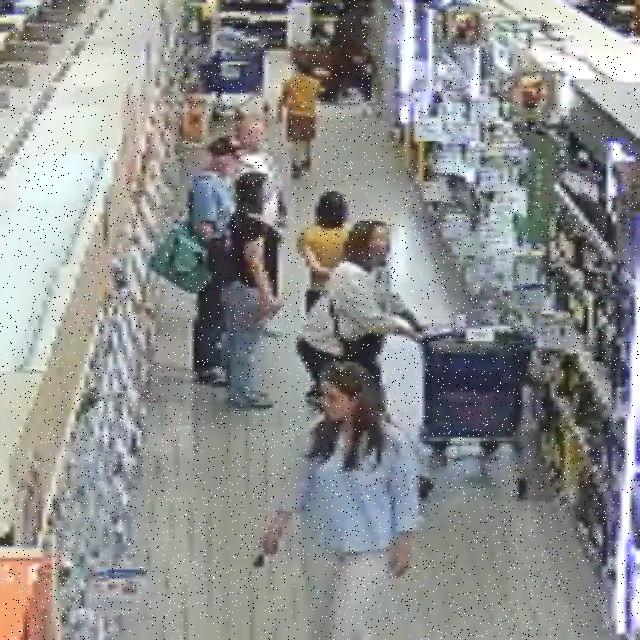article: (256, 311, 275, 328)
bags: (330, 300, 384, 362), (208, 229, 235, 285)
hands: (260, 514, 289, 555), (390, 534, 412, 577), (262, 297, 281, 318)
person: (261, 363, 419, 639), (298, 221, 420, 404), (224, 172, 280, 408), (236, 118, 286, 295), (297, 191, 348, 313), (189, 136, 239, 246)
